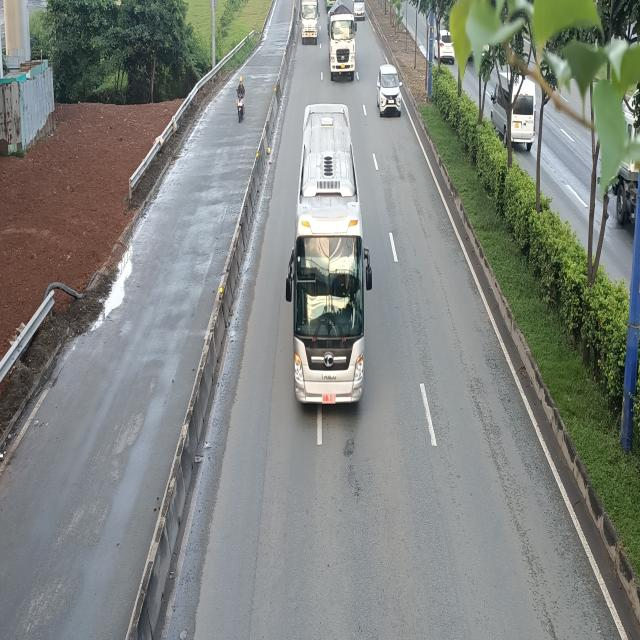car: (376, 66, 402, 118)
coach: (287, 103, 372, 407)
truck: (329, 0, 359, 79), (301, 0, 320, 42)
